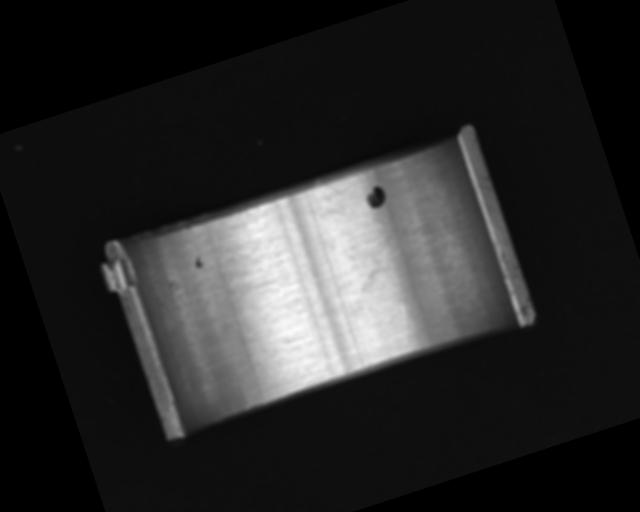blot: (346, 233, 409, 300), (362, 183, 389, 211)
bruise: (191, 254, 206, 271)
nick: (389, 303, 418, 349)
